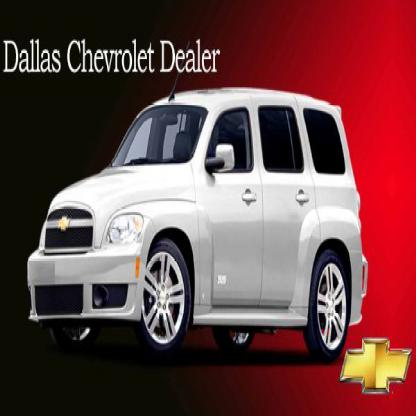Vehicle: (27, 83, 369, 367)
